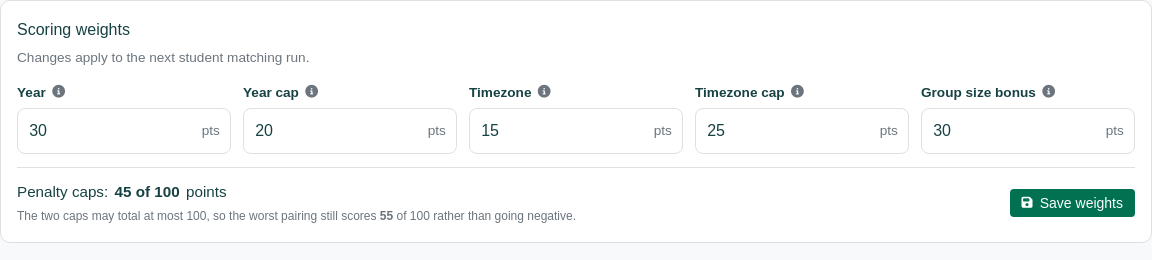
it: MatchingConfigPanel › the penalty ceiling › adds fractional caps exactly
The width and height of the screenshot is (1152, 260).
Replace the text in the number field labelled "Year cap" with "33.33" at [350, 131], box [243, 108, 457, 154]
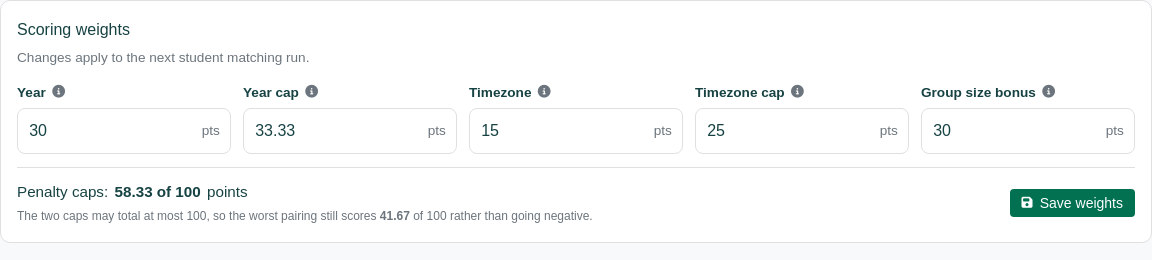
Replace the text in the number field labelled "Timezone cap" with "66.67" at [802, 131], box [695, 108, 909, 154]
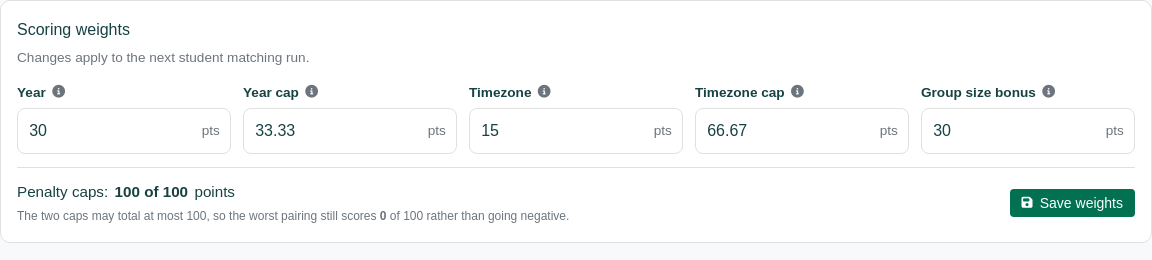
Expected: the button "Save weights" is enabled, [1010, 189, 1135, 217]
Expected: the text "Penalty caps: 100 of 100" is shown, [17, 183, 235, 200]
